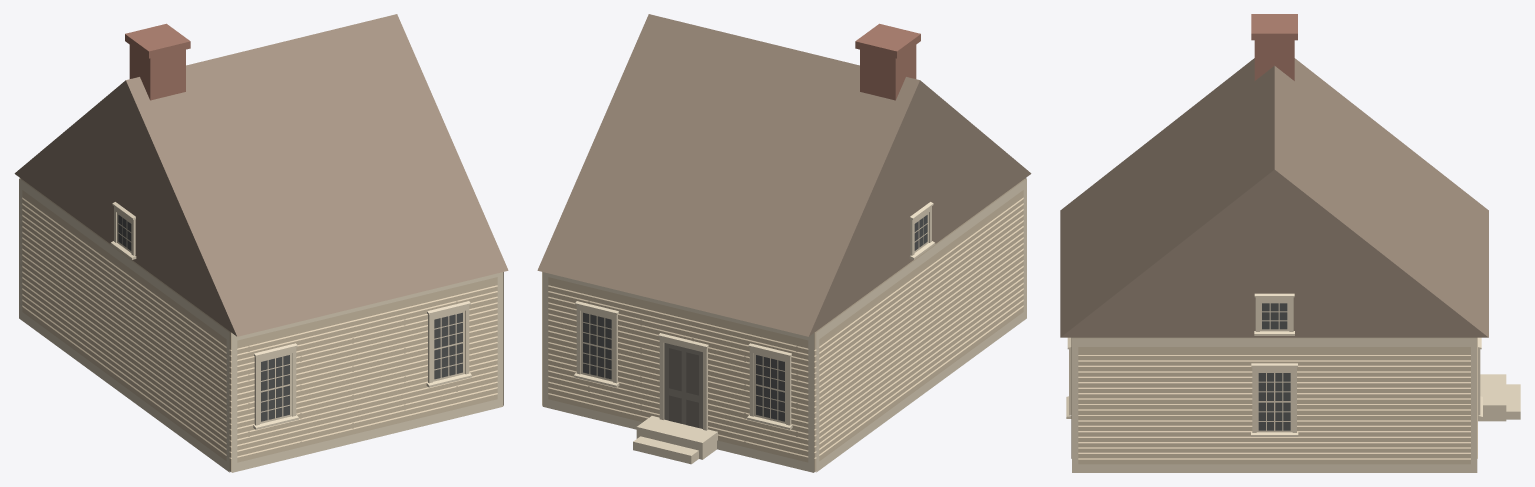
The model's file is recon_1835_north_d6_093__inferred_1835.glb.
The picture shows the model from 3 angles, left to right: view 1: azimuth 30°, elevation 25°; view 2: azimuth 150°, elevation 25°; view 3: azimuth 270°, elevation 25°; orthographic projection. The views are drawn at different scales.
Parts seen in each view (by area): view 1: recon_1835_north_d6_093__inferred_1835; view 2: recon_1835_north_d6_093__inferred_1835; view 3: recon_1835_north_d6_093__inferred_1835.
Part boxes in pixels (left/top/right/bottom): recon_1835_north_d6_093__inferred_1835: left=14, top=14, right=508, bottom=472; recon_1835_north_d6_093__inferred_1835: left=537, top=14, right=1031, bottom=472; recon_1835_north_d6_093__inferred_1835: left=1060, top=14, right=1520, bottom=472.
Size of the model in its own units: 6.6 by 7.85 by 9.73.
